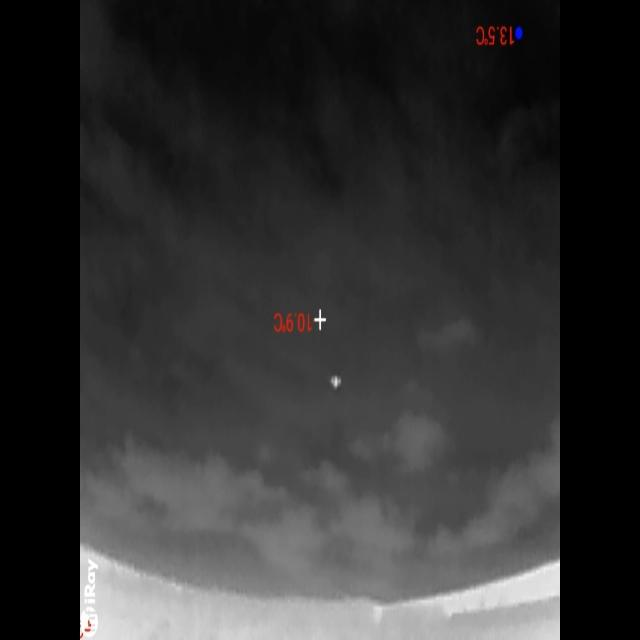drone: (330, 370, 342, 392)
